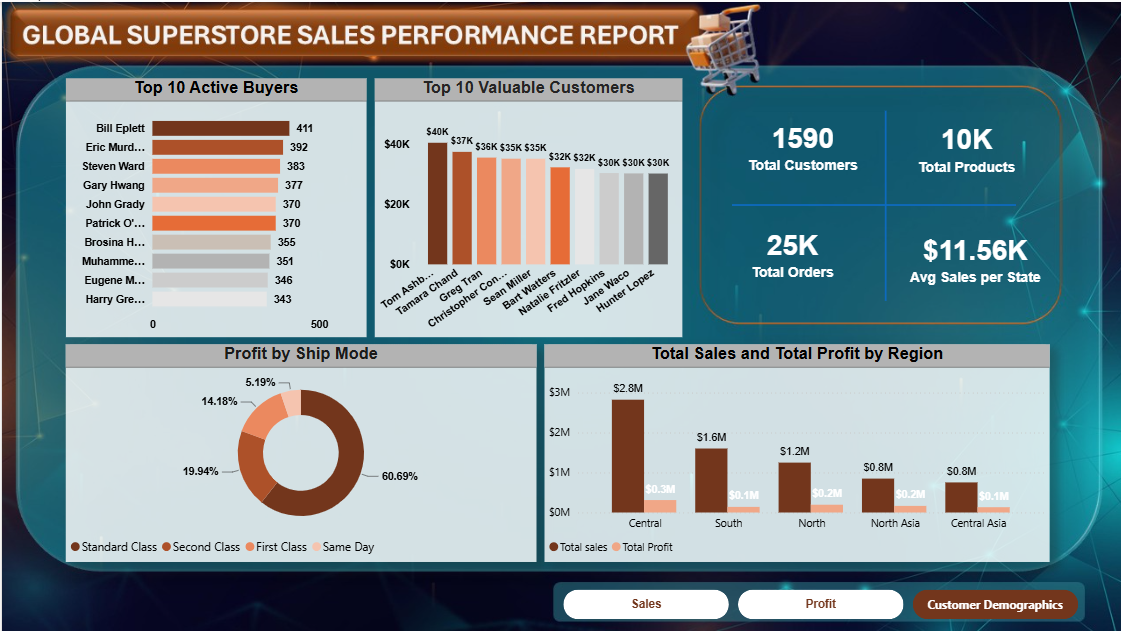

The dashboard page shown, as its layout file describes it:
{"tool":"powerbi","page":{"name":" Customer Demographics","canvas":[1280,720],"ordinal":2},"visuals":[{"type":"card","fields":{"Values":["Reftbl.Total Customers"]},"box":[815.1,93.3,196.2,141.3],"z":0},{"type":"card","fields":{"Values":["Reftbl.Total Products"]},"box":[1022.3,113.9,156.4,101.5],"z":1000},{"type":"card","fields":{"Values":["Reftbl.Total Orders"]},"box":[832.9,211.3,138.6,148.2],"z":2000},{"type":"card","fields":{"Values":["Reftbl.Avg Sales per State"]},"box":[1011.3,215.4,196.2,150.9],"z":3000},{"type":"barChart","title":"Top 10 Active Buyers","fields":{"Category":["globalsuperstore.Customer Name"],"Y":["Reftbl.Total Qty"]},"box":[72.7,86.4,343.1,295],"z":4000},{"type":"shape","box":[832.9,81,323.8,300.5],"z":5000},{"type":"clusteredColumnChart","title":"Top 10 Valuable Customers","fields":{"Category":["globalsuperstore.Customer Name"],"Y":["Reftbl.Total sales"]},"box":[425.4,86.4,351.3,295],"z":6000},{"type":"donutChart","title":" Profit by Ship Mode","fields":{"Category":["globalsuperstore.Ship Mode"],"Y":["Reftbl.Total Profit"]},"box":[72.7,391.1,536.5,248.4],"z":7000},{"type":"clusteredColumnChart","title":"Total Sales and Total Profit by Region","fields":{"Category":["globalsuperstore.Region"],"Y":["Reftbl.Total sales","Reftbl.Total Profit"]},"box":[618.9,391.1,576.3,248.4],"z":8000},{"type":"shape","box":[857.6,123.5,299.1,216.8],"z":9000},{"type":"pageNavigator","box":[639.5,669.6,587.3,34.3],"z":10000}]}

Visuals, with their boxes in screenshot pixels (x1, y1, x2, y2), scaled from the page's 1280x720 canvas onto the 1121x631 screenshot:
card - Reftbl.Total Customers: <box>714,82,886,206</box>
card - Reftbl.Total Products: <box>895,100,1032,189</box>
card - Reftbl.Total Orders: <box>729,185,851,315</box>
card - Reftbl.Avg Sales per State: <box>886,189,1058,321</box>
"Top 10 Active Buyers" barChart: <box>64,76,364,334</box>
shape: <box>729,71,1013,334</box>
"Top 10 Valuable Customers" clusteredColumnChart: <box>373,76,680,334</box>
" Profit by Ship Mode" donutChart: <box>64,343,534,560</box>
"Total Sales and Total Profit by Region" clusteredColumnChart: <box>542,343,1047,560</box>
shape: <box>751,108,1013,298</box>
pageNavigator: <box>560,587,1074,617</box>
